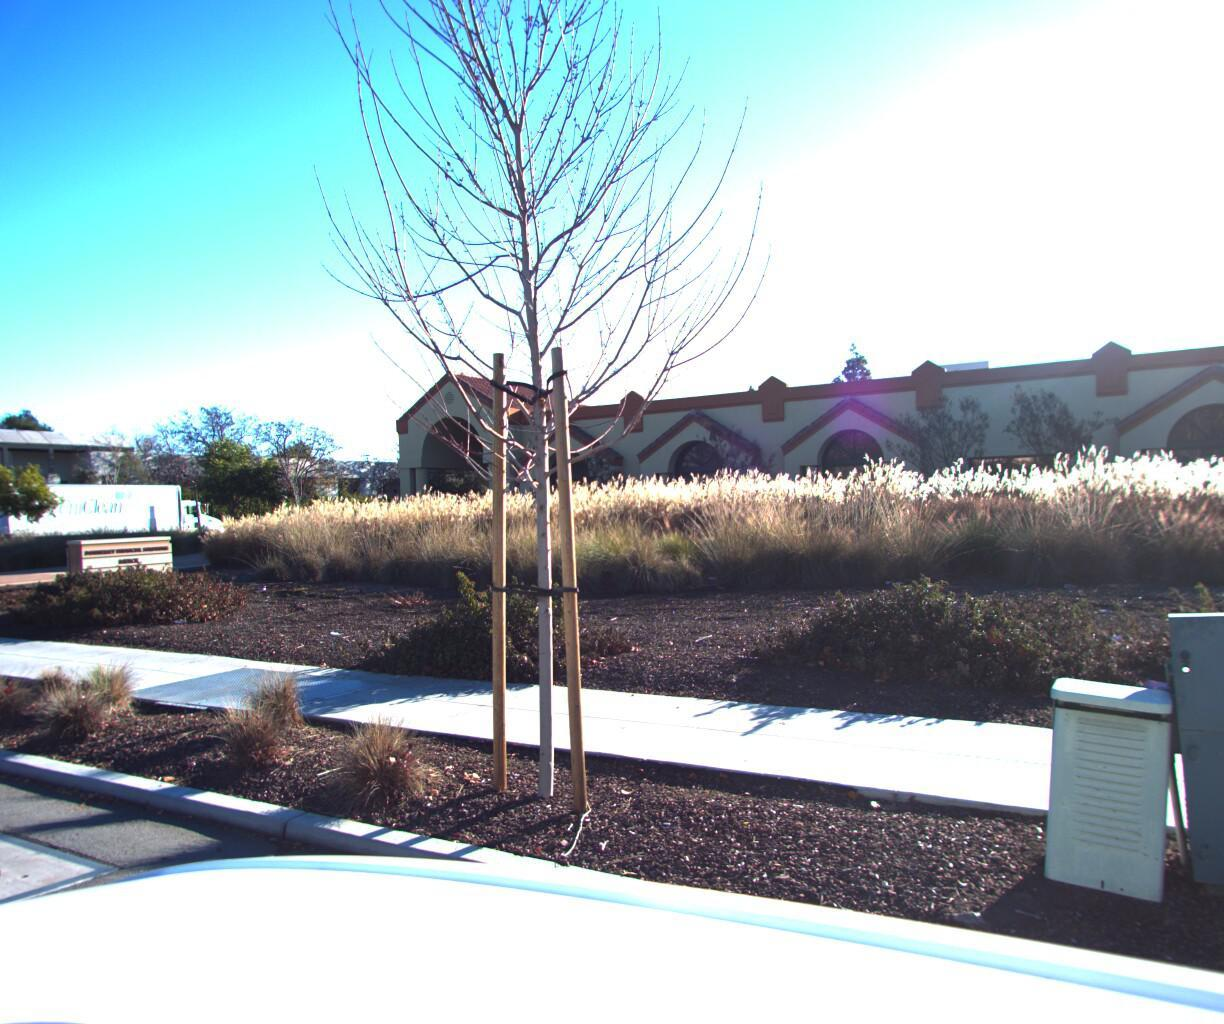truck: (0, 489, 243, 563)
